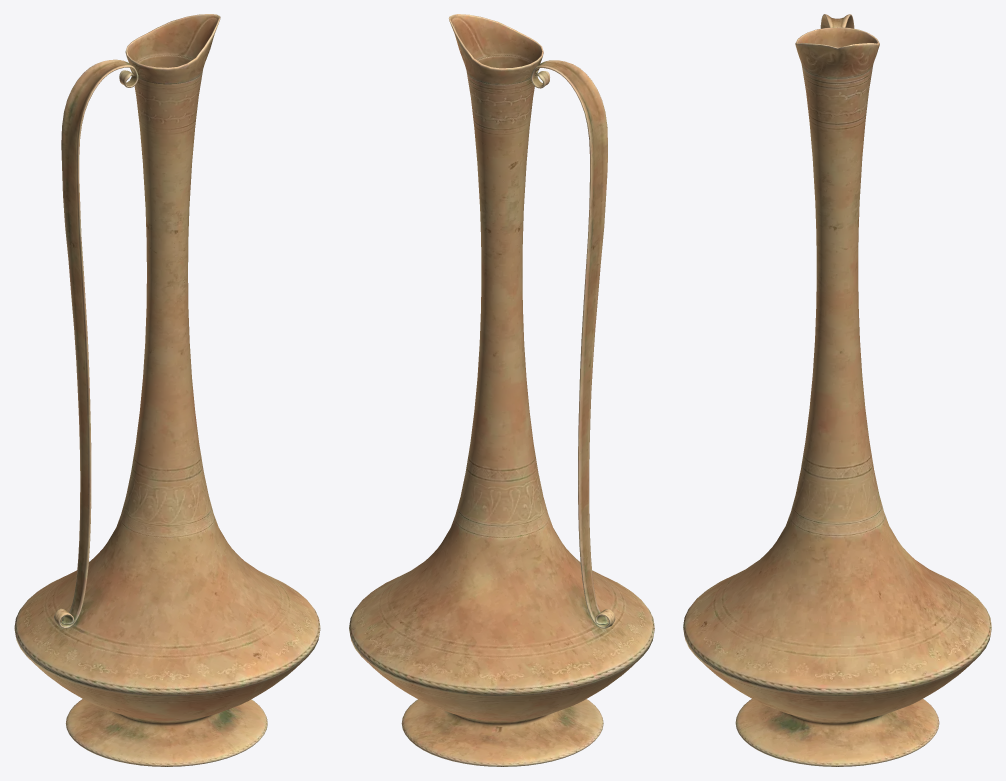
The model's file is brass_vase_02.glb.
3 renders of one model, left to right at view 1: azimuth 30°, elevation 25°; view 2: azimuth 150°, elevation 25°; view 3: azimuth 270°, elevation 25°, orthographic.
Visible parts, largest first — view 1: brass_vase_02; view 2: brass_vase_02; view 3: brass_vase_02.
Boxes of the visible parts, <box> form: brass_vase_02: <box>14,14,320,766</box>; brass_vase_02: <box>349,14,654,766</box>; brass_vase_02: <box>683,14,991,766</box>.
Bounding box in the file's own units: 0.2102 × 0.5286 × 0.2102.
Materials: 1 (1 with a texture image).
